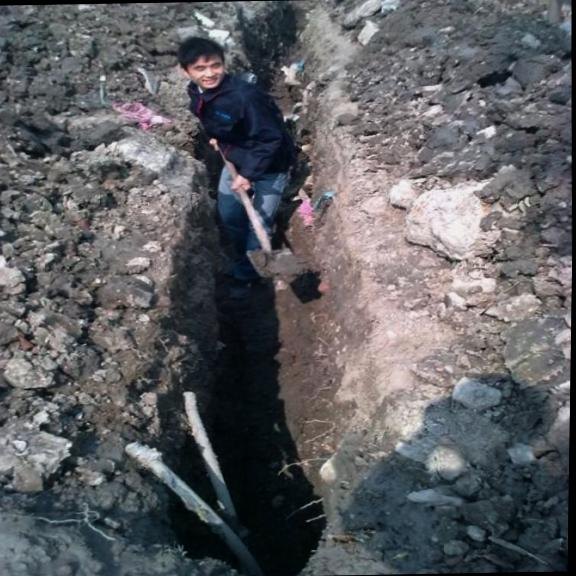no_safety_vest: (183, 78, 295, 174)
